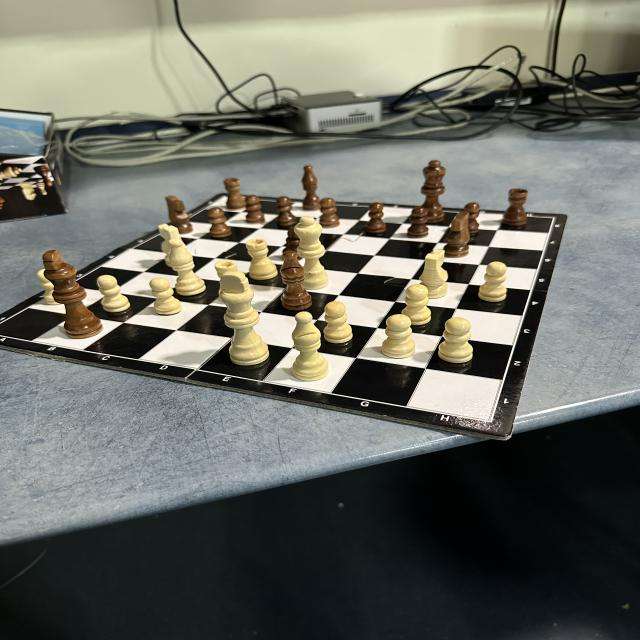Black-Bishop: (280, 250, 312, 311), (302, 165, 321, 211), (282, 226, 302, 261)
Black-King: (41, 249, 104, 339)
Black-Knight: (443, 212, 471, 258), (165, 196, 194, 234)
Black-Pawn: (207, 207, 233, 239), (363, 202, 388, 234), (406, 206, 429, 238), (276, 196, 298, 227), (319, 198, 341, 228), (462, 202, 481, 235), (245, 195, 266, 224)
Black-Queen: (420, 160, 446, 224)
Black-Rook: (502, 188, 528, 227), (223, 178, 246, 210)
White-Bishop: (291, 310, 329, 382), (167, 238, 207, 296)
White-King: (219, 270, 270, 366)
White-Knight: (417, 249, 449, 299), (158, 223, 187, 268)
White-Pawn: (438, 317, 473, 363), (382, 314, 416, 359), (477, 261, 508, 303), (96, 275, 130, 313), (322, 301, 352, 344), (402, 284, 432, 326), (149, 278, 182, 316), (36, 269, 54, 305)
White-Queen: (293, 216, 329, 290)
White-Rook: (245, 238, 279, 281), (214, 259, 238, 281)
